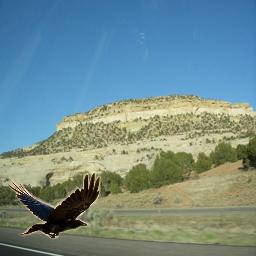Crow: (6, 172, 102, 239)
